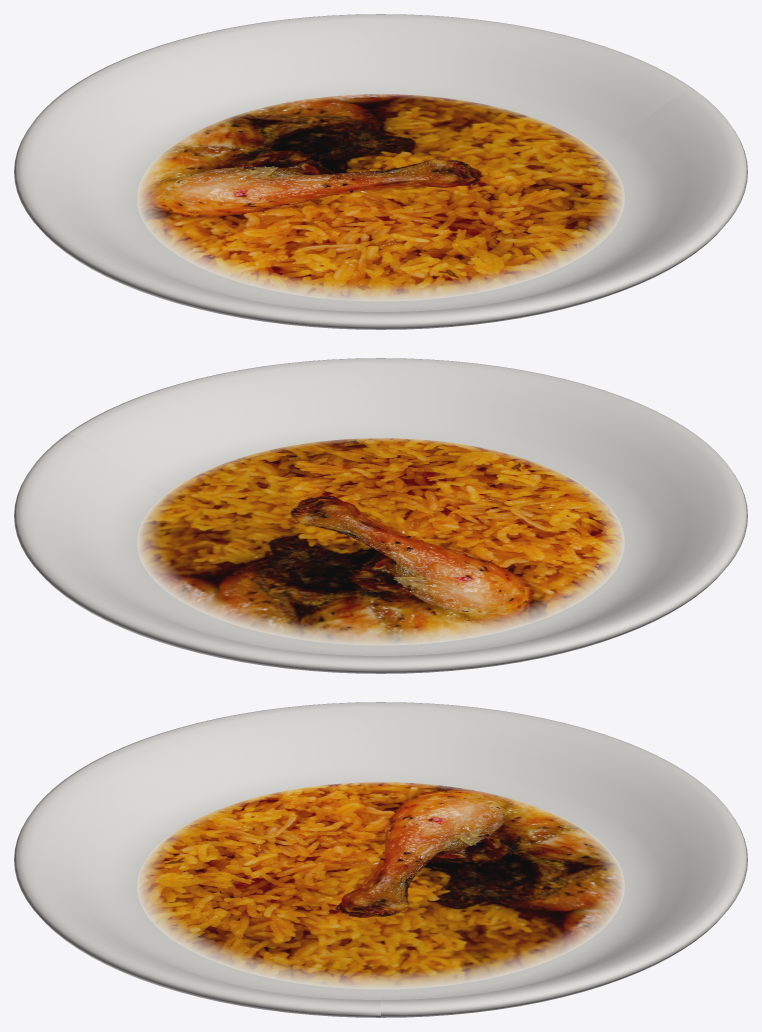
The model's file is riz-gras-poulet.glb.
3 renders of one model, top to bottom at view 1: azimuth 30°, elevation 25°; view 2: azimuth 150°, elevation 25°; view 3: azimuth 270°, elevation 25°, orthographic.
Parts seen in each view (by area): view 1: assiette, plat; view 2: assiette, plat; view 3: assiette, plat.
Boxes of the visible parts, x1,y1,x2,y2 form: assiette: (14,14,747,329); plat: (137,94,624,301); assiette: (14,358,747,673); plat: (137,438,624,645); assiette: (14,702,747,1017); plat: (137,782,624,989).
Bounding box in the file's own units: 0.301 × 0.0232 × 0.301.
Materials: 2 (1 with a texture image).
